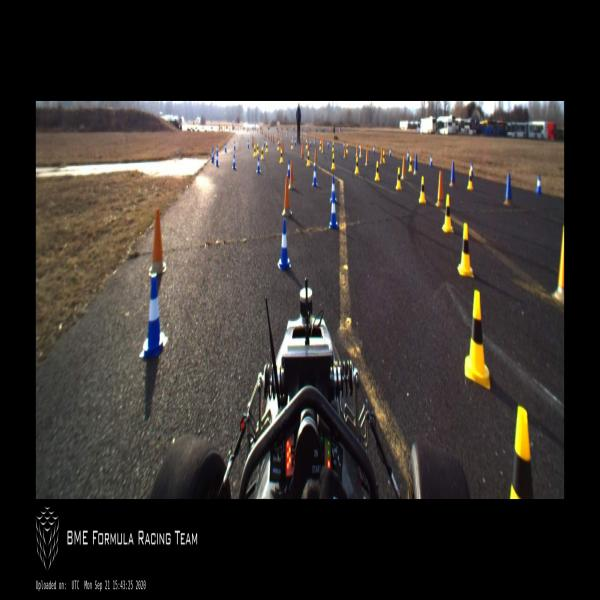blue_cone: (141, 272, 166, 361), (278, 220, 290, 268), (329, 192, 338, 229), (330, 176, 337, 206), (534, 172, 542, 194), (312, 166, 318, 187), (215, 149, 220, 167), (286, 159, 290, 179), (256, 156, 260, 173), (232, 153, 236, 169), (470, 162, 474, 178), (429, 153, 433, 167), (216, 144, 219, 156), (389, 147, 392, 157), (233, 141, 236, 150), (212, 150, 214, 163), (407, 150, 409, 162), (212, 147, 214, 159), (309, 140, 312, 147), (225, 143, 227, 153), (358, 142, 360, 152), (279, 137, 281, 146), (248, 140, 250, 148), (373, 146, 375, 154), (327, 140, 329, 148), (294, 138, 296, 146), (343, 141, 345, 149), (264, 139, 265, 147)
yellow_cone: (464, 290, 491, 390), (508, 406, 536, 498), (458, 222, 474, 278), (442, 193, 453, 234), (419, 175, 426, 204), (374, 159, 382, 181), (396, 168, 402, 190), (354, 155, 360, 175), (468, 167, 472, 189), (331, 154, 336, 171), (306, 148, 310, 167), (409, 157, 413, 172), (280, 149, 284, 163), (260, 147, 264, 159), (256, 141, 259, 156), (382, 148, 385, 162), (332, 141, 335, 153), (254, 144, 256, 156), (266, 141, 268, 153), (305, 140, 308, 148), (346, 143, 348, 153), (319, 140, 321, 150), (291, 139, 293, 149), (277, 141, 279, 150)
